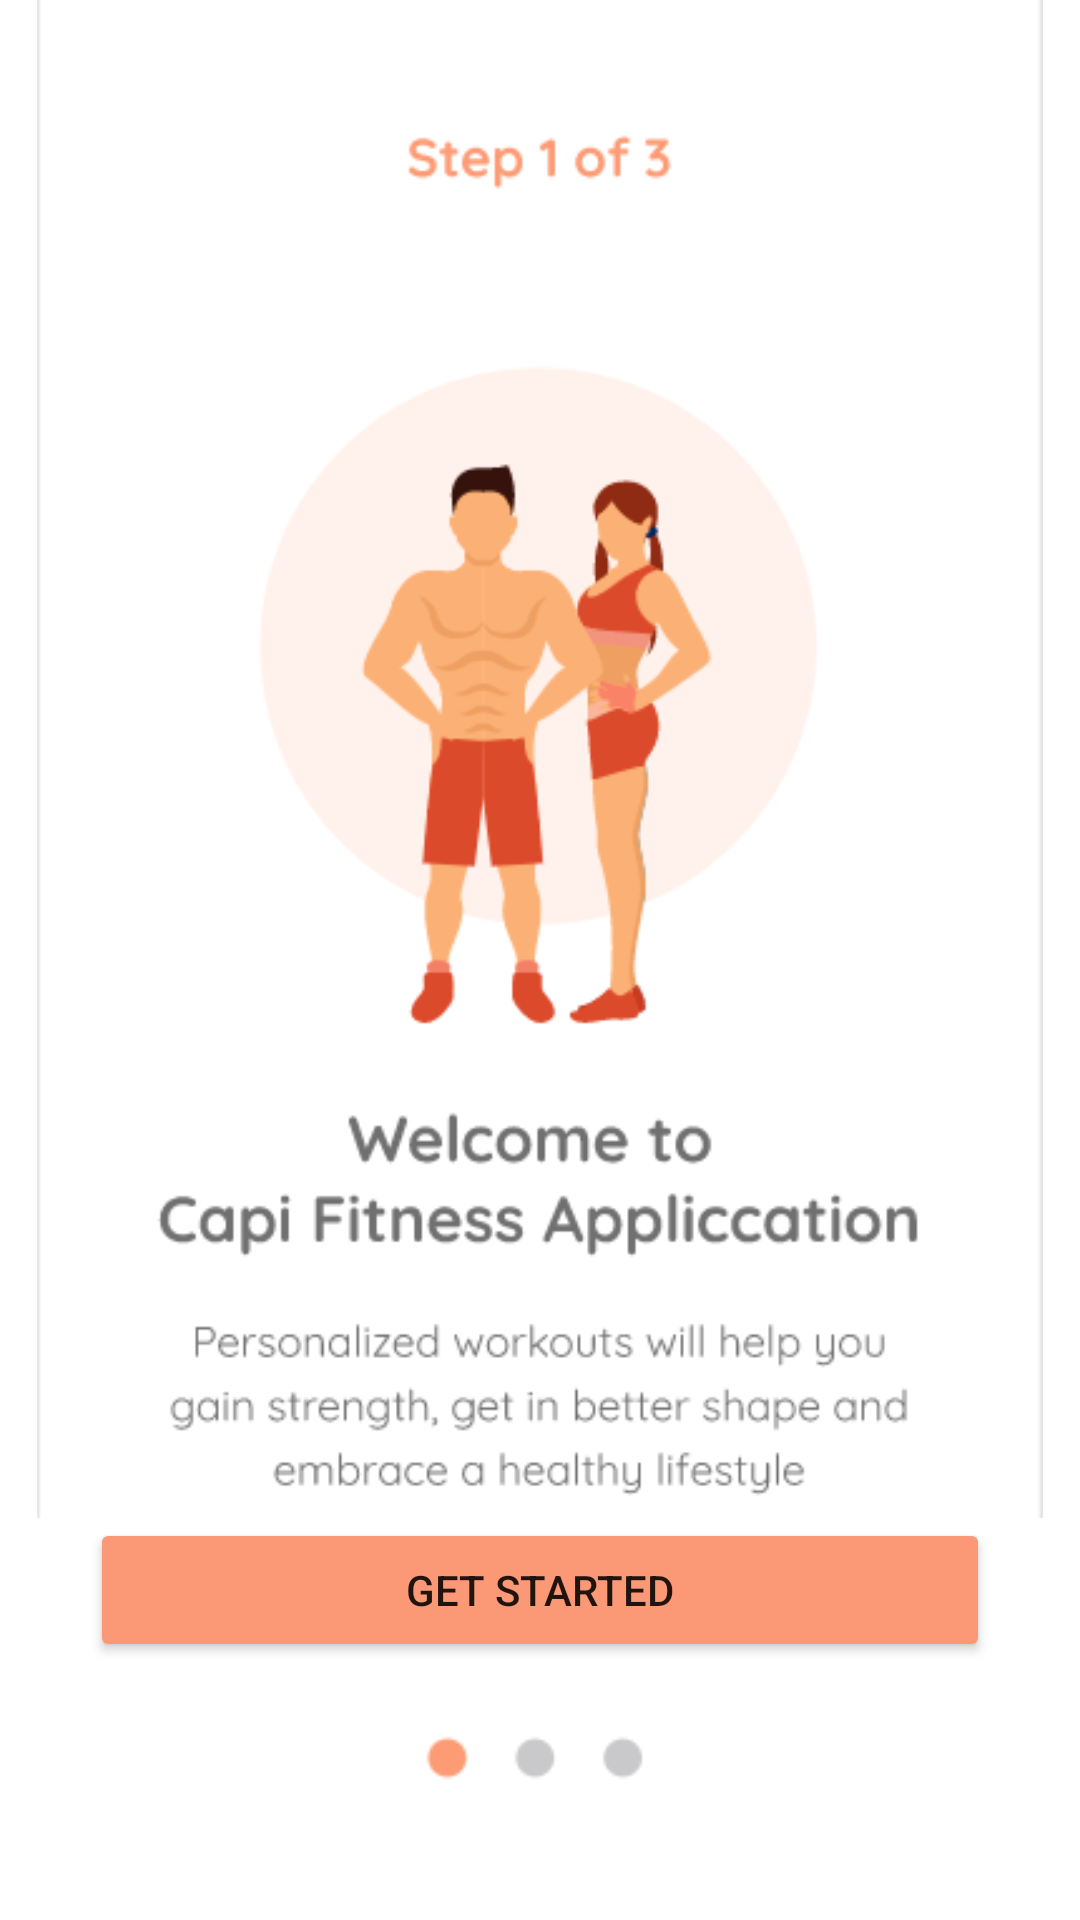

Icons on this 1080px×1920px Android screen, each with the point to tap as (x,y):
step progress: (534,1758)
